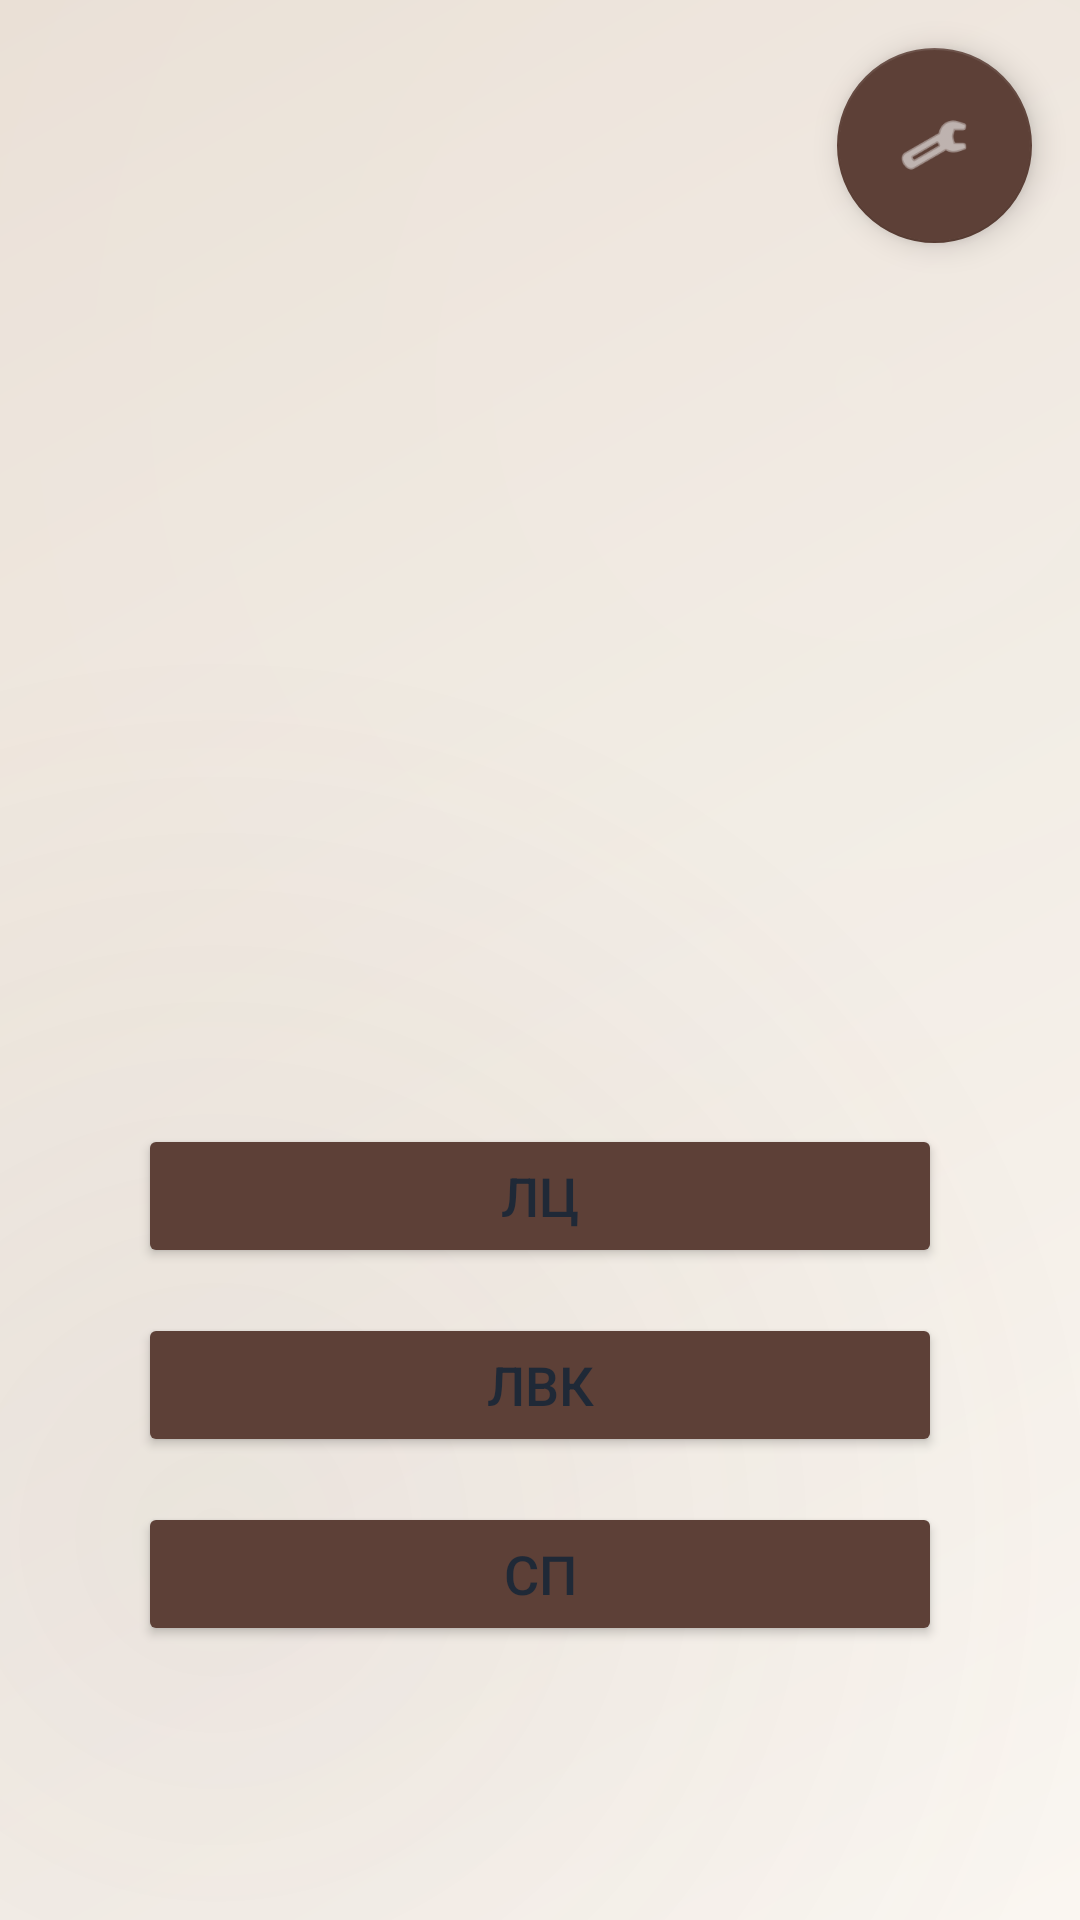

Icon click points for this 1080px×1920px phone screenshot, format (x=x, y=y):
Настройки подключения: (x=934, y=145)
